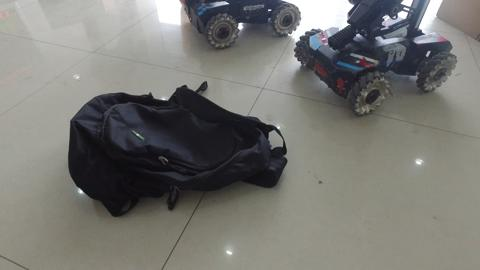bag: (73, 96, 292, 202)
chariot: (294, 1, 457, 116), (178, 1, 300, 43)
